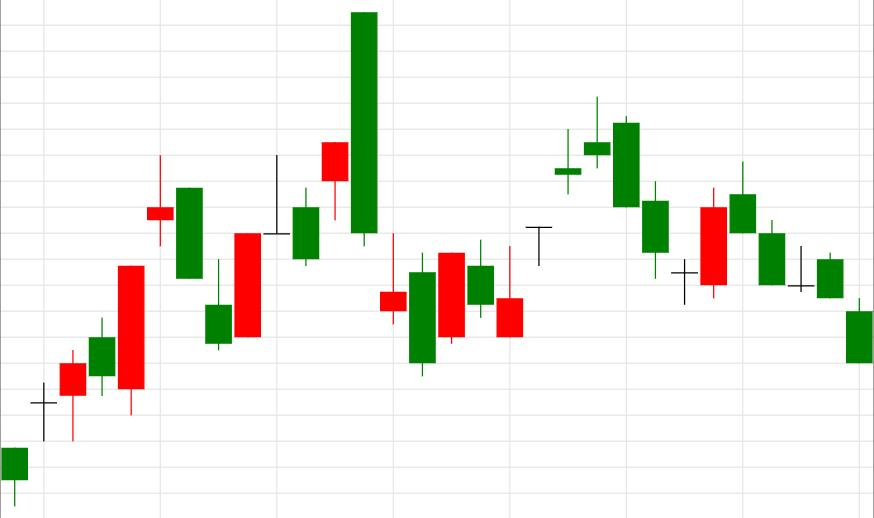bearish_engulfing_fall: (205, 12, 377, 351)
